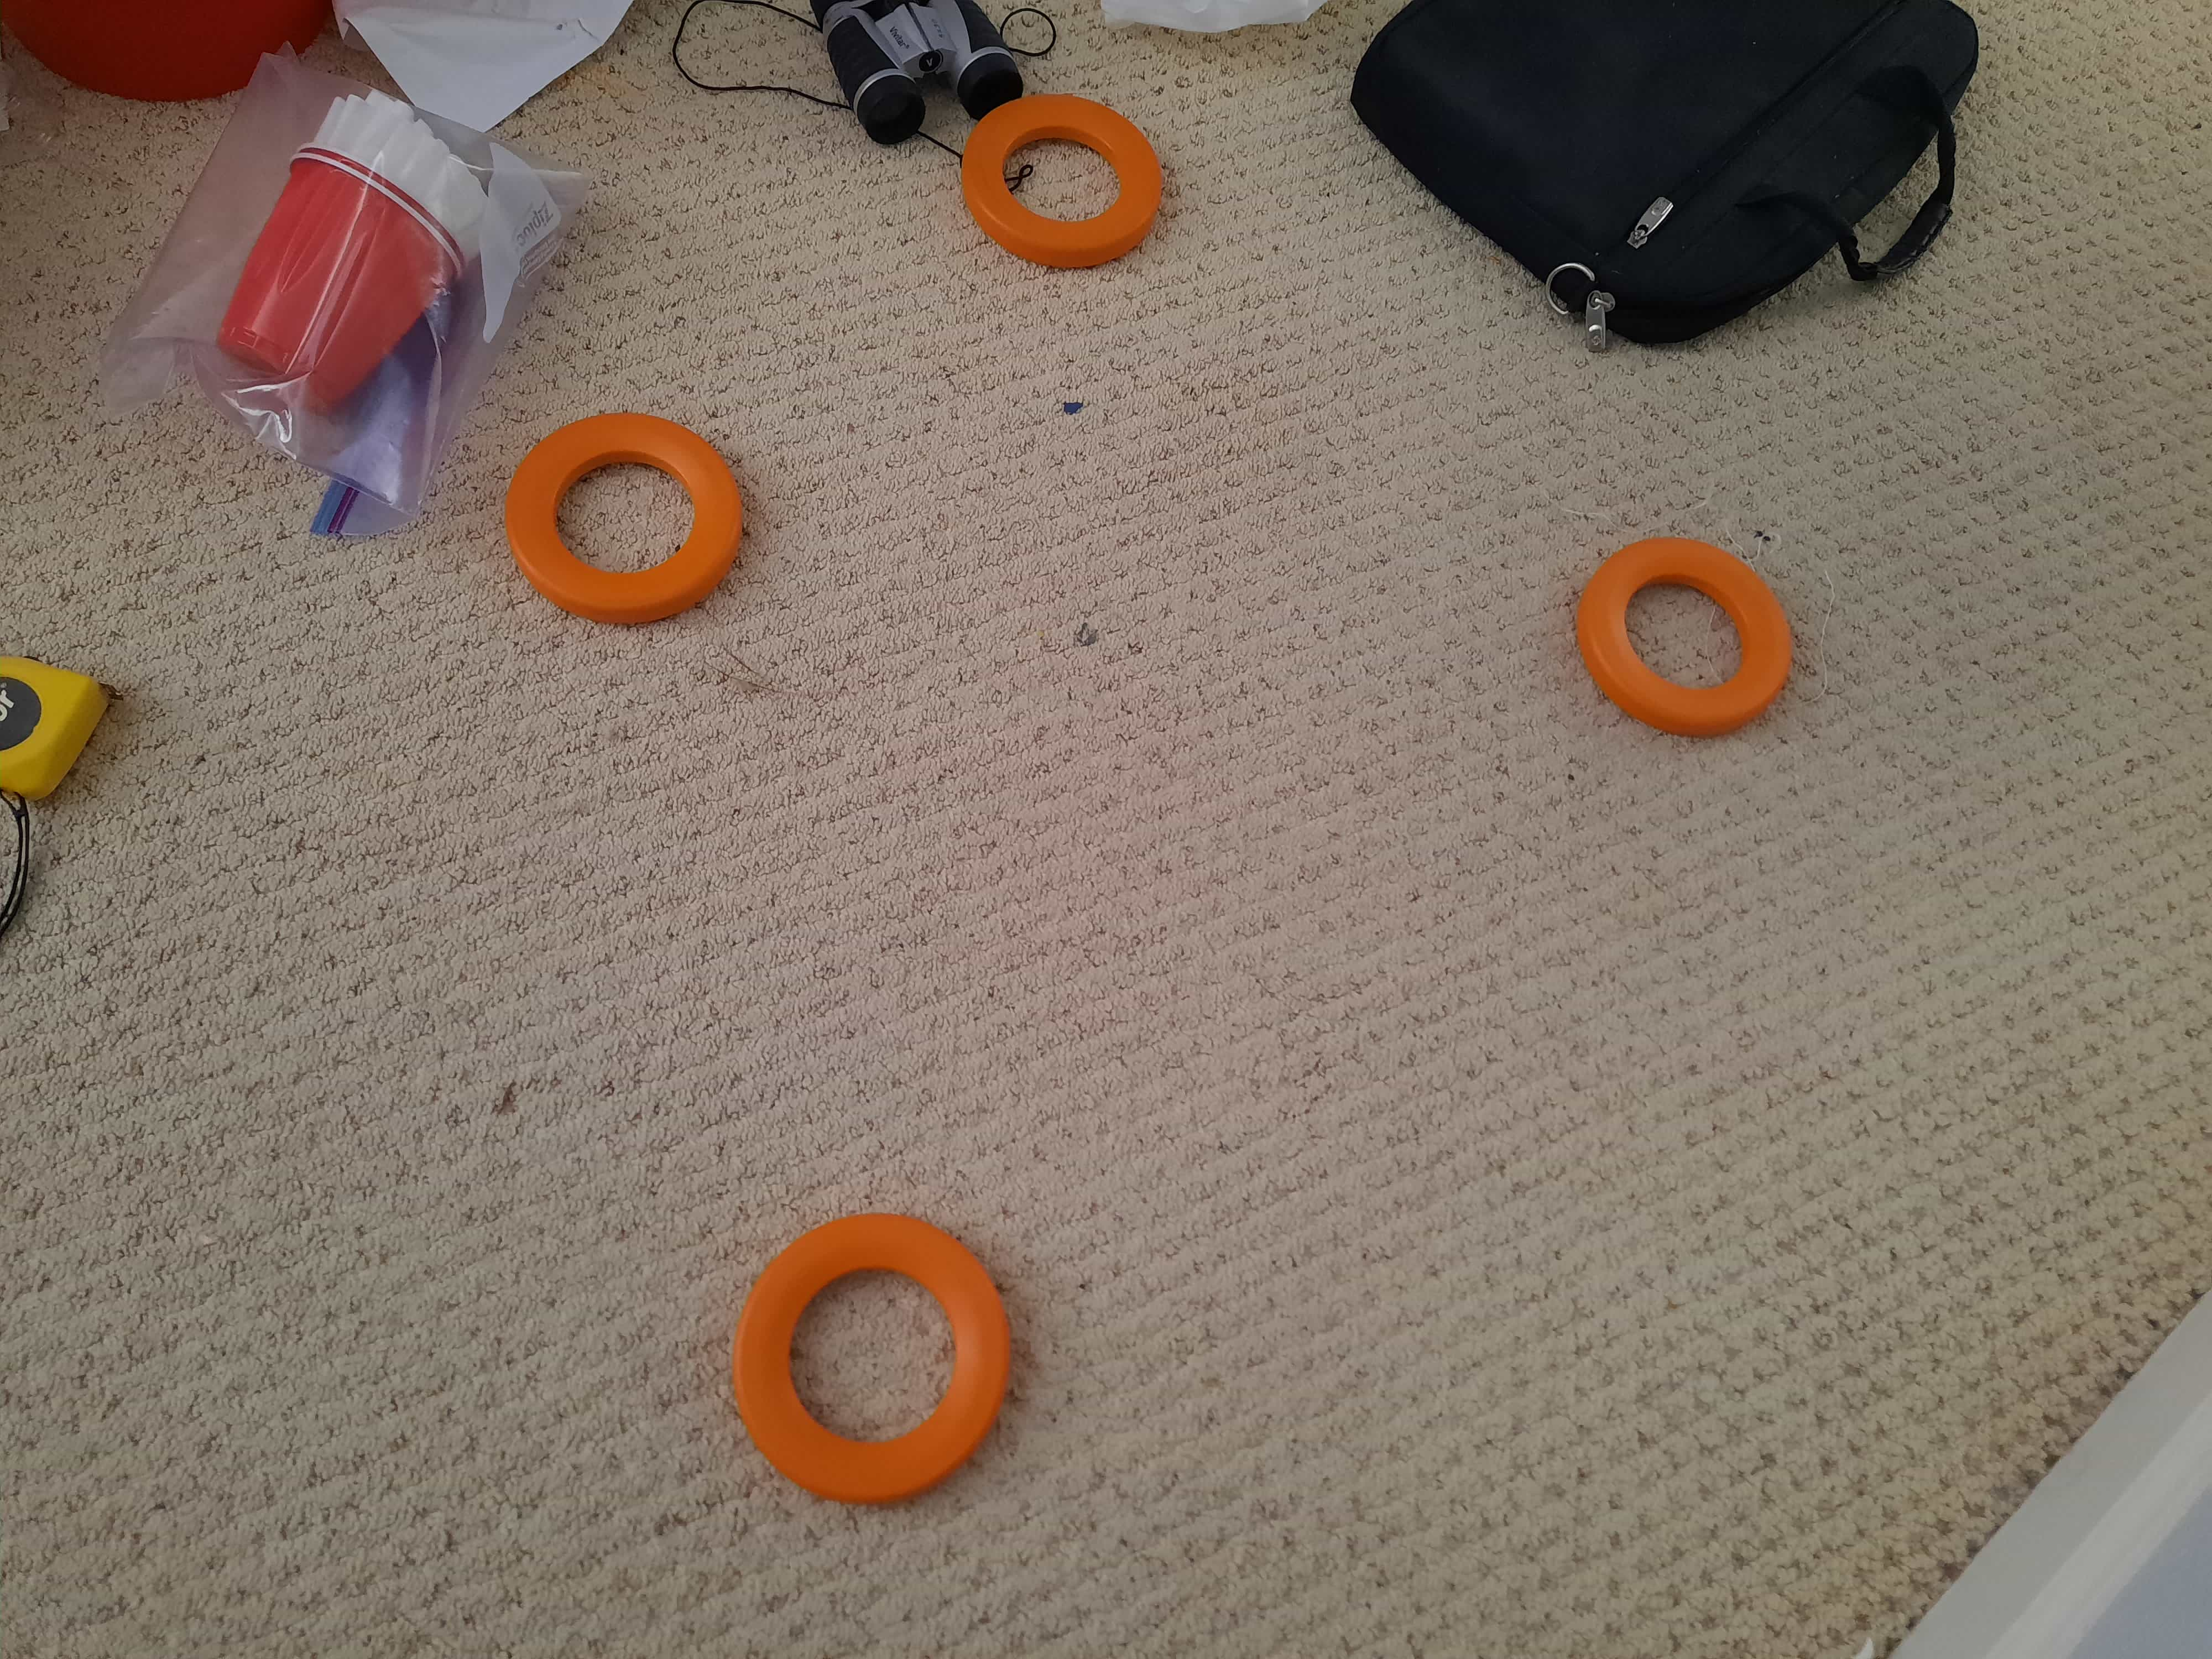OneStack: (737, 1213, 1008, 1492), (507, 413, 740, 617), (1587, 533, 1791, 739), (963, 99, 1163, 268)
